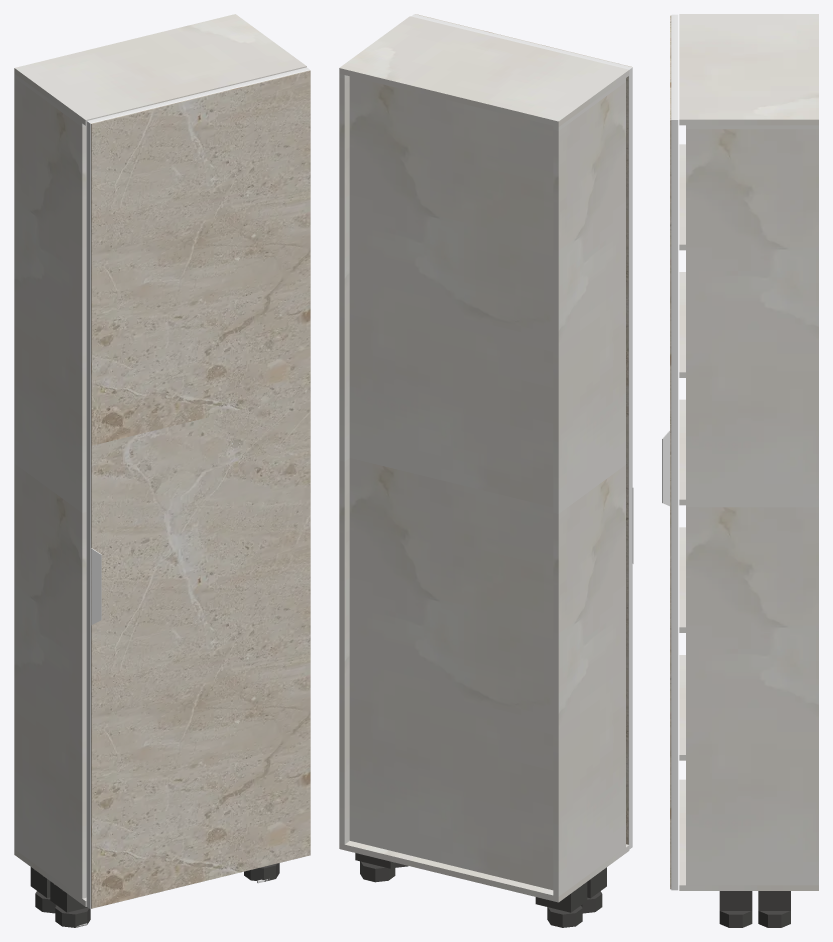
The picture shows the model from 3 angles, left to right: view 1: azimuth 30°, elevation 25°; view 2: azimuth 150°, elevation 25°; view 3: azimuth 270°, elevation 25°; orthographic projection. The views are drawn at different scales.
Size of what is drawn, in the model's own units: 0.6 by 2.14 by 0.3759.
6 materials, 2 textured.
